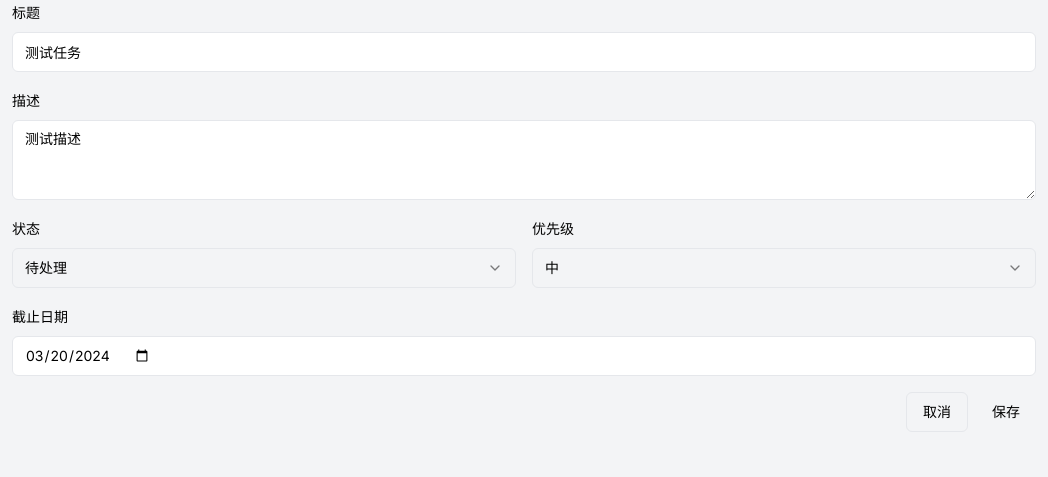
it: TaskEditForm › 应该验证必填字段
The width and height of the screenshot is (1048, 477).
Clear the field labelled "标题": (524, 52) [12,32,1036,72]
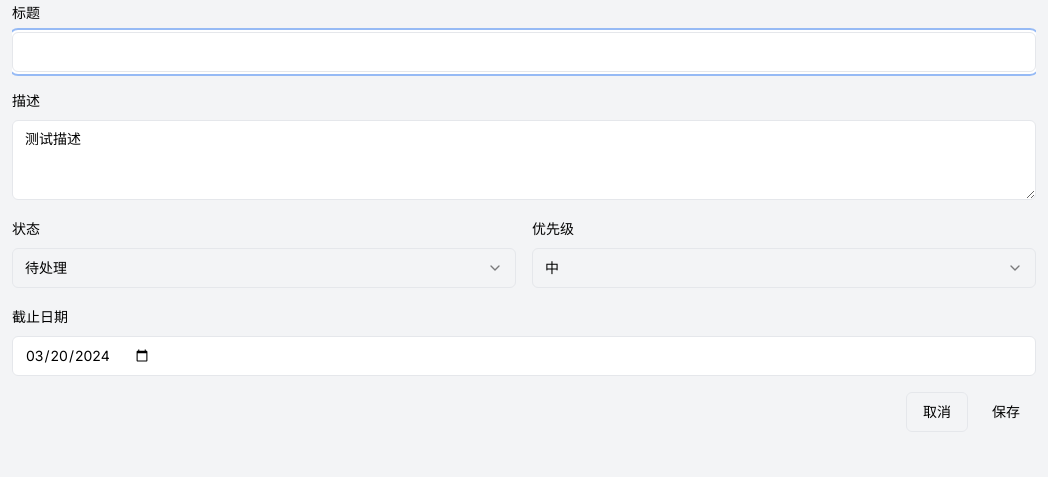
Click the button "保存": (1006, 412) [976,392,1036,432]
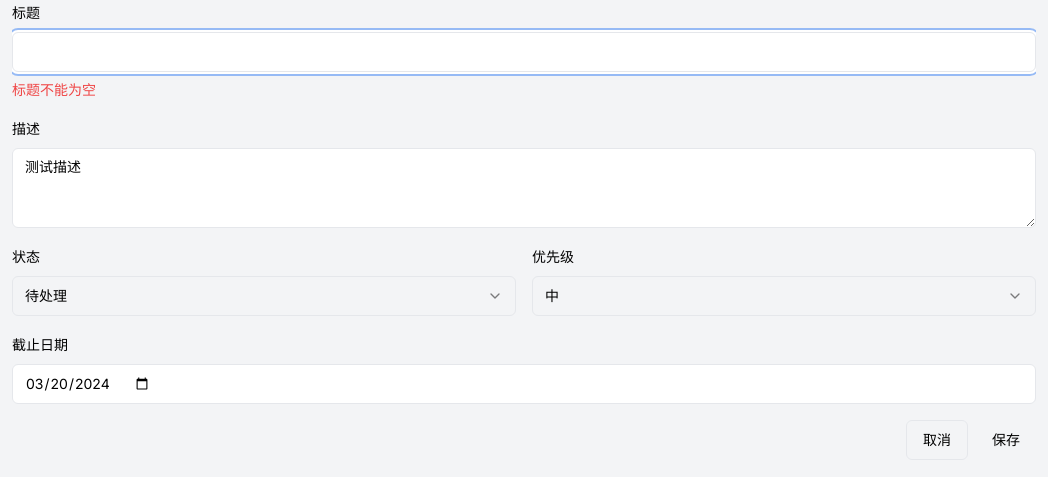
Expected: the text "标题不能为空" is shown, [12,81,96,98]
